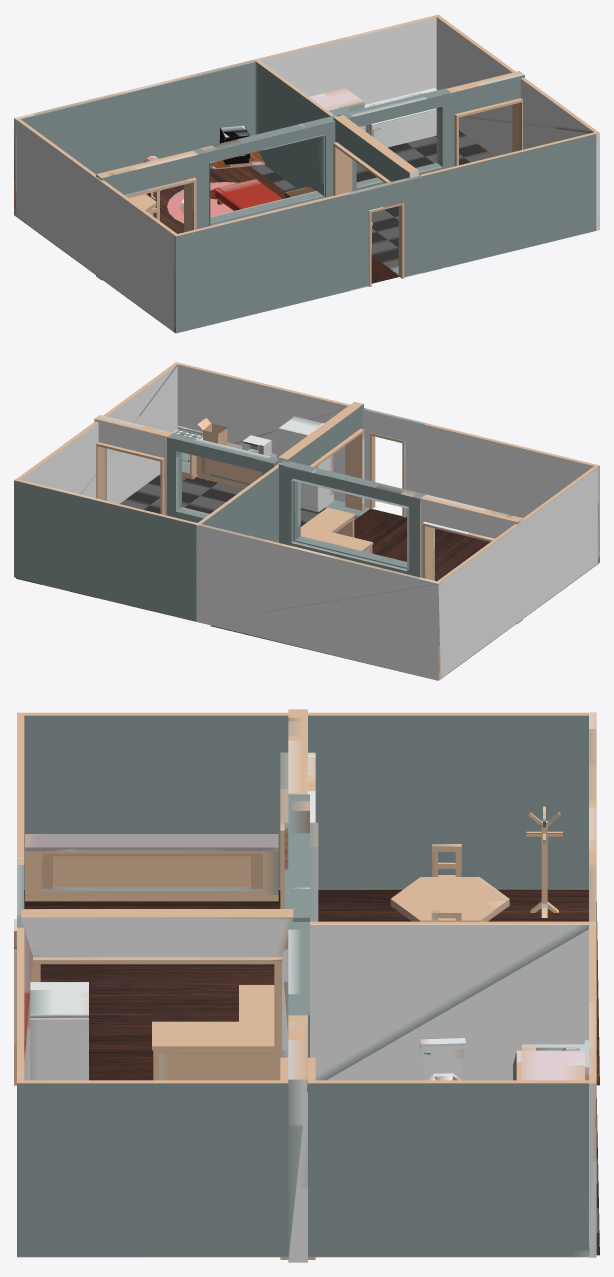
Rendered from RoomA-col.glb.
3 renders of one model, top to bottom at view 1: azimuth 30°, elevation 25°; view 2: azimuth 150°, elevation 25°; view 3: azimuth 270°, elevation 25°, orthographic. The views are drawn at different scales.
Visible parts, largest first — view 1: Plane.002; view 2: Plane.002; view 3: Plane.002.
Part boxes in pixels (x1=…): Plane.002: x1=14, y1=14, x2=599, y2=333; Plane.002: x1=14, y1=362, x2=599, y2=680; Plane.002: x1=14, y1=709, x2=599, y2=1262.
Size of the model in its own units: 68.45 by 16.27 by 45.61.
1 material, 1 textured.
